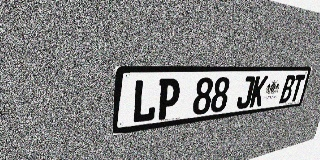8: (192, 77, 215, 116), (209, 77, 232, 113)
B: (279, 75, 296, 103)
J: (235, 76, 256, 109)
K: (249, 76, 268, 108)
L: (131, 79, 159, 124)
P: (155, 78, 181, 121)
T: (289, 75, 306, 102)
